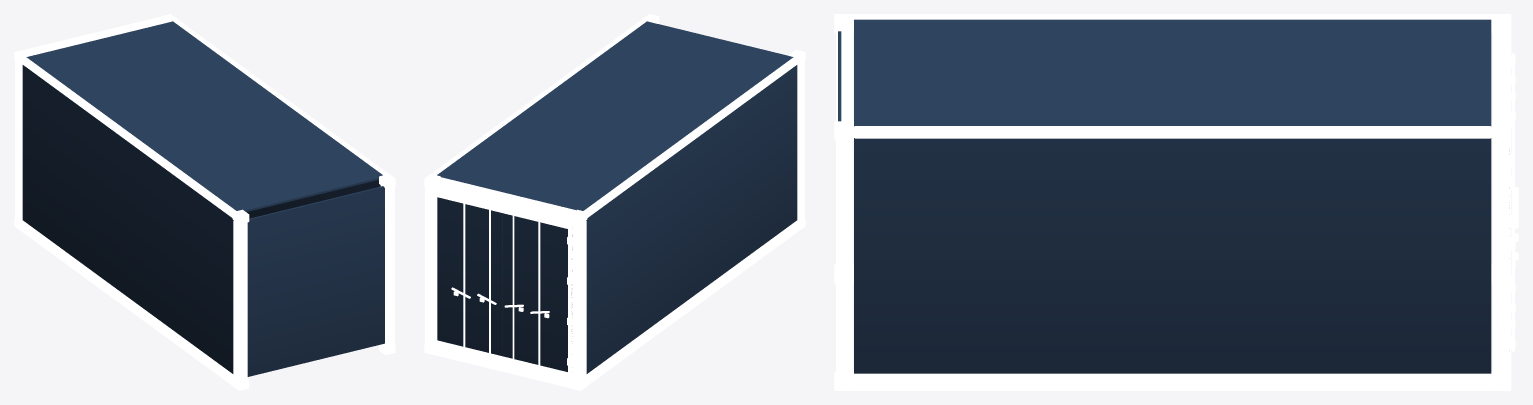
Rendered from iso_container_20_blue.glb.
3 views of the same model, side by side, from view 1: azimuth 30°, elevation 25°; view 2: azimuth 150°, elevation 25°; view 3: azimuth 270°, elevation 25° (orthographic). The views are drawn at different scales.
Parts seen in each view (by area): view 1: iso_container_20_blue_LOD0; view 2: iso_container_20_blue_LOD0; view 3: iso_container_20_blue_LOD0.
Boxes of the visible parts, x1=… form: iso_container_20_blue_LOD0: x1=14, y1=14, x2=395, y2=390; iso_container_20_blue_LOD0: x1=424, y1=14, x2=805, y2=390; iso_container_20_blue_LOD0: x1=834, y1=14, x2=1518, y2=390.
Size of what is drawn, in the model's own units: 2.44 by 2.59 by 6.13.
